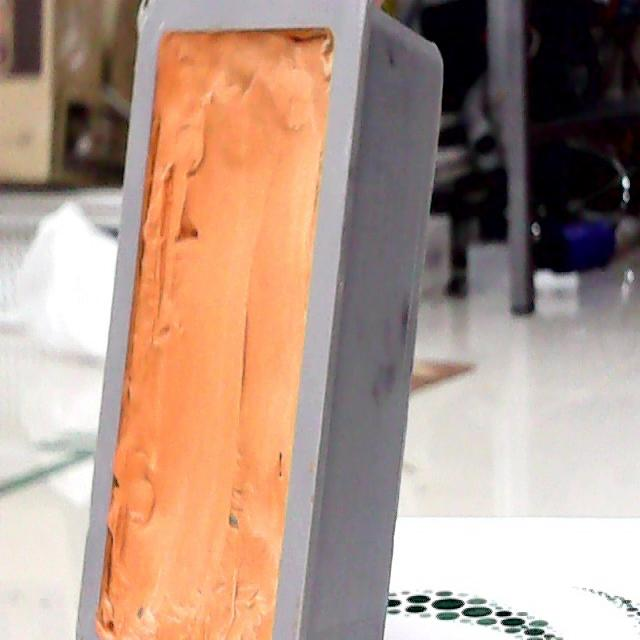block: (63, 0, 453, 640)
